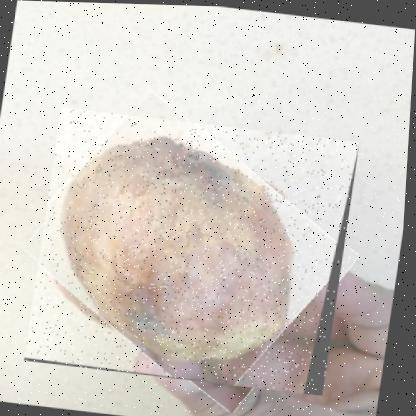guava_rotten: (26, 107, 362, 395)
